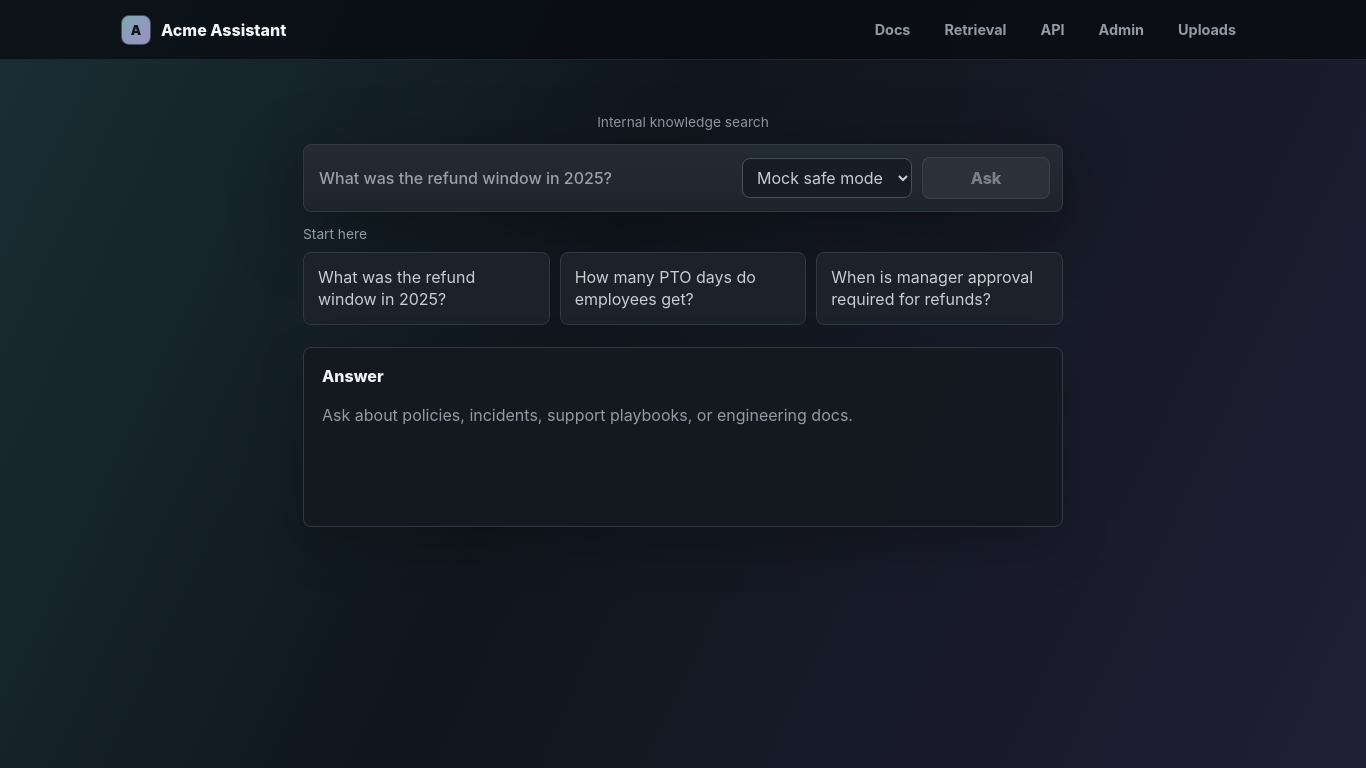
Scenario: sends live mode to the agent endpoint when agent routing is selected
Select "Agent routing" in the dropdown named "Answer mode": [827, 178] box [742,158,912,198]
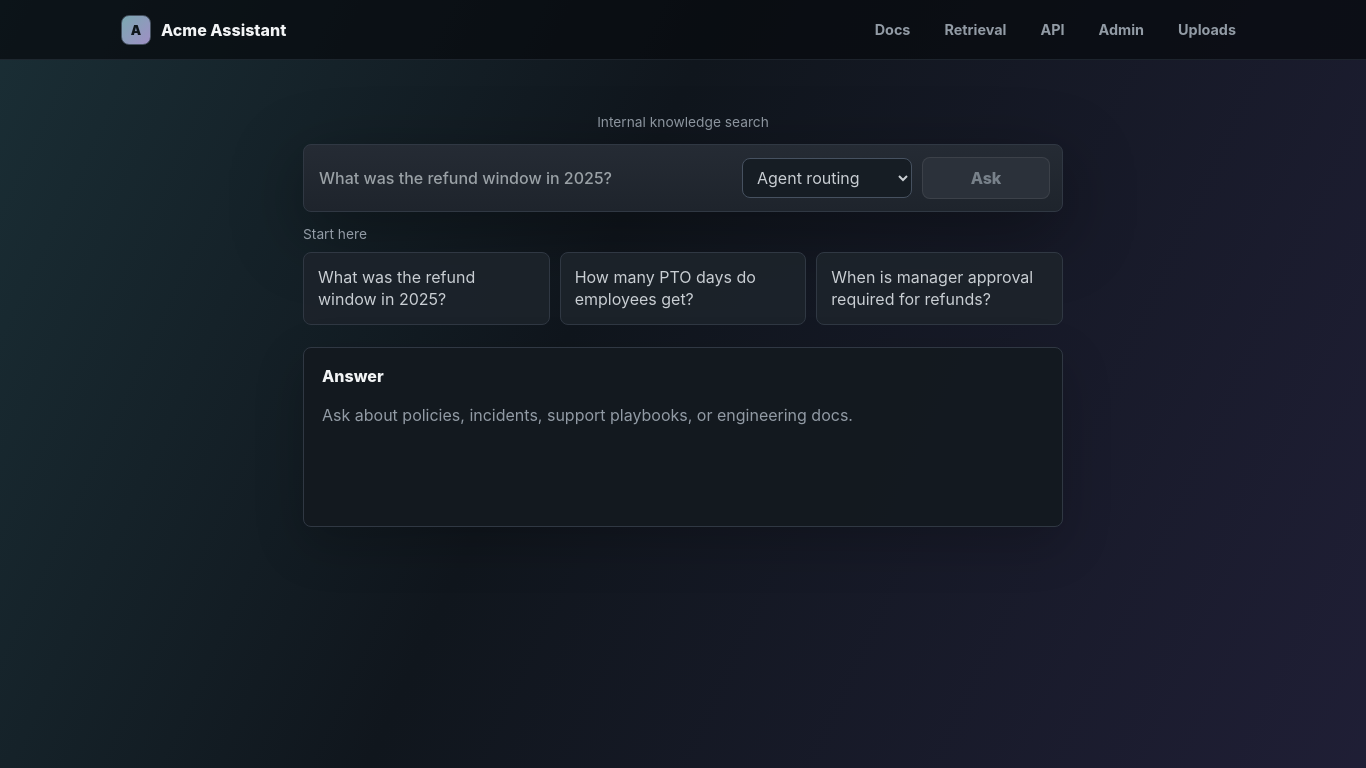
In the field with placeholder "What was the refund window in 2025?": [524, 178] box [316,157,732,199], type "What is RAG?"
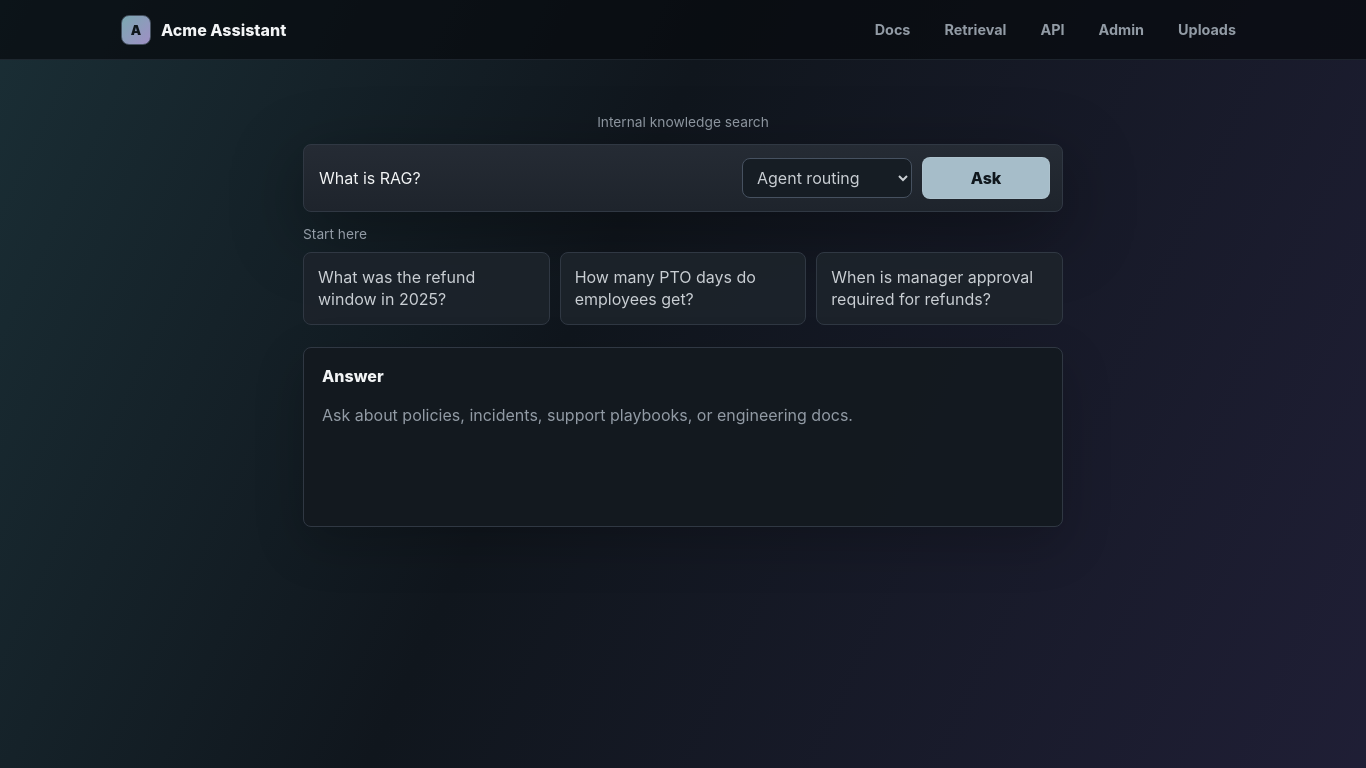
Click the button "Ask": [986, 178] box [922,157,1050,199]
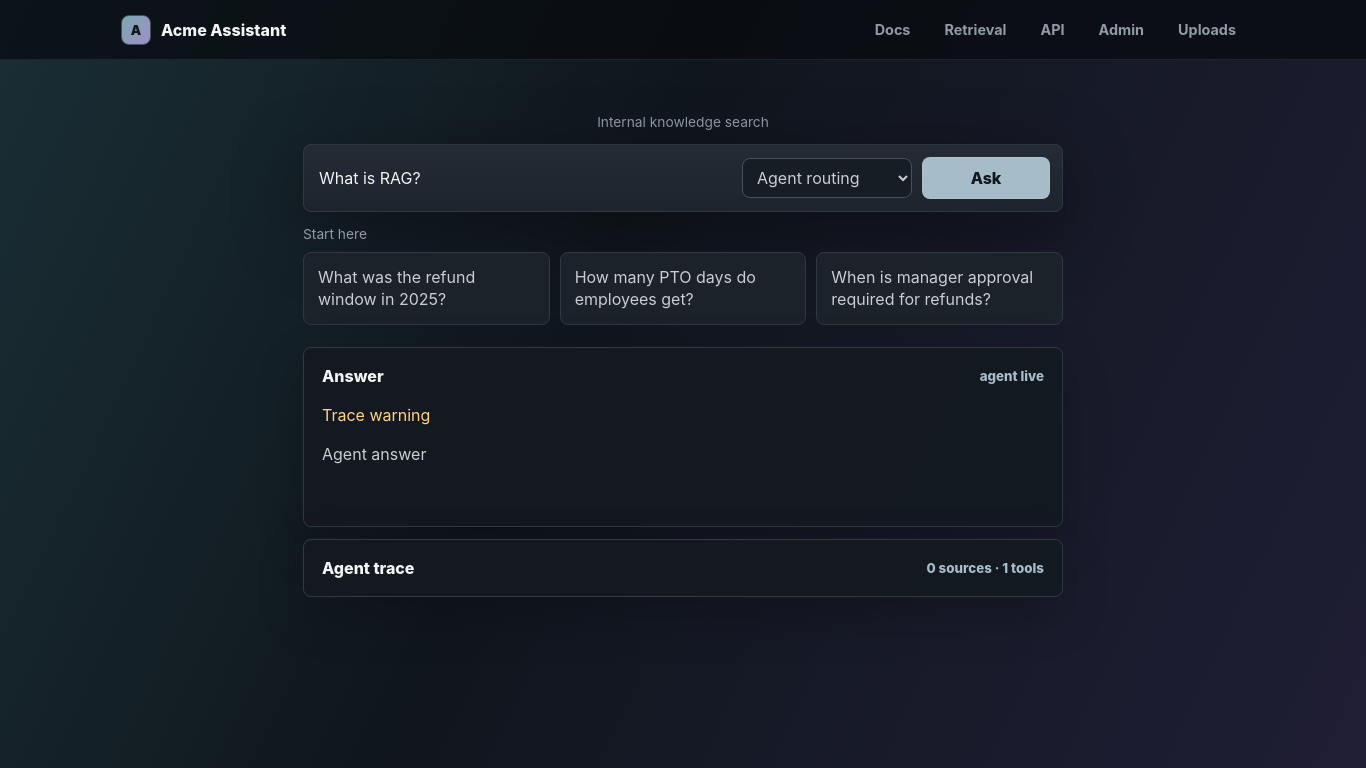
Result: the text "Agent trace" is shown at [322,558,414,578]
Result: the text "Trace warning" is shown at [322,405,430,425]
